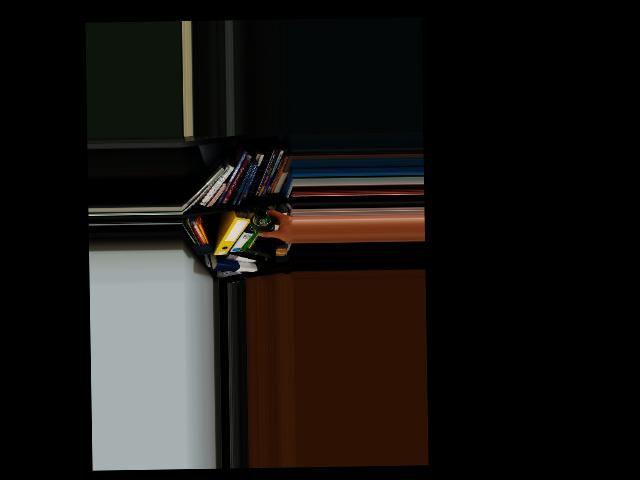beer: (250, 209, 273, 234)
